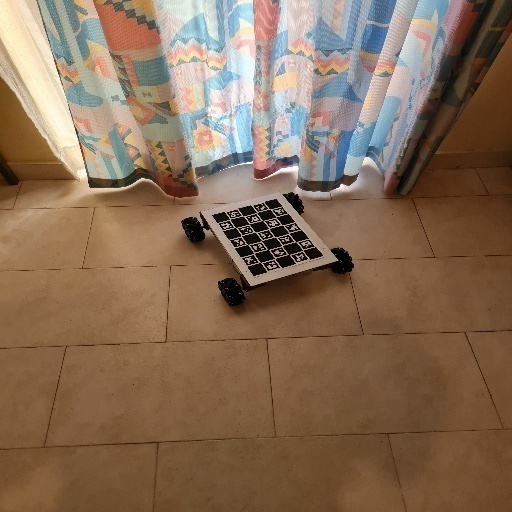Omniwheel: (182, 190, 357, 307)
